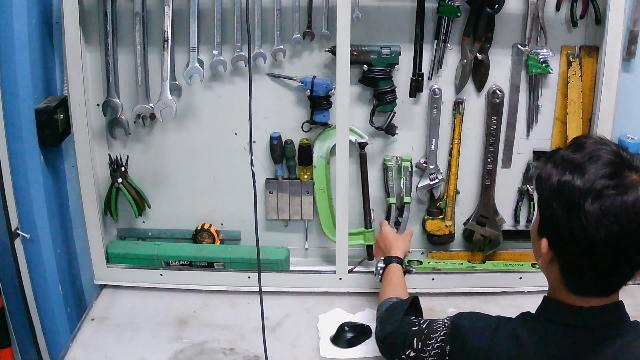tang_rivet: (381, 158, 412, 256)
